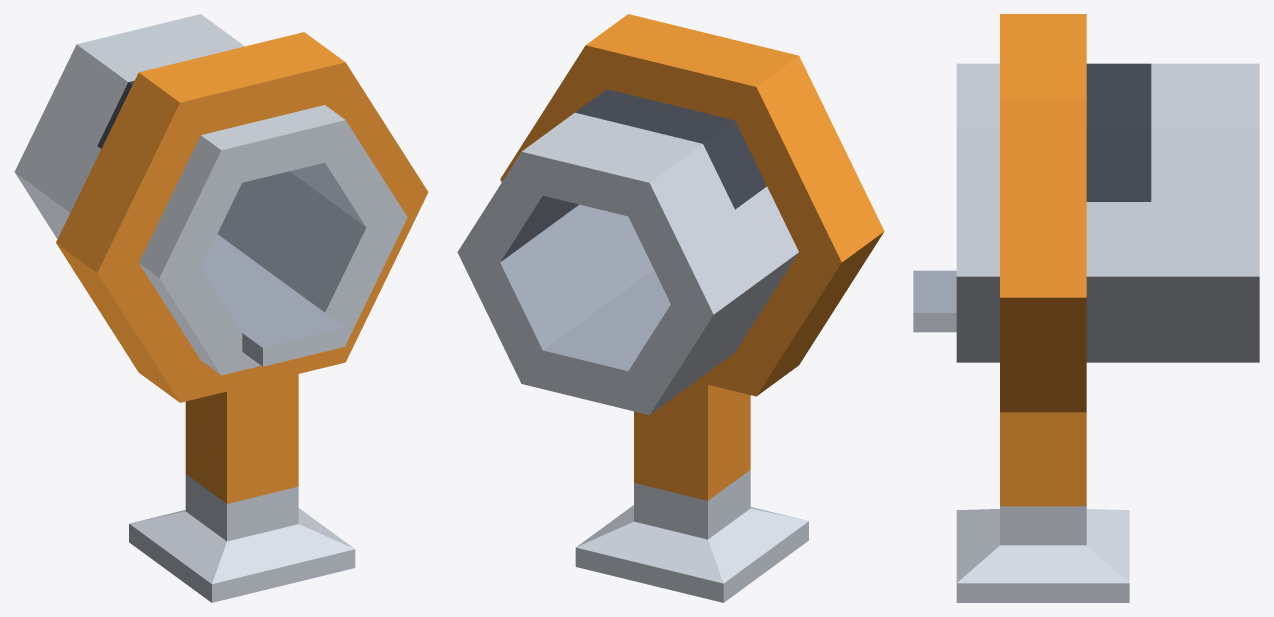
File: pipe_ringHighEnd.fbx
3 views of the same model, side by side, from view 1: azimuth 30°, elevation 25°; view 2: azimuth 150°, elevation 25°; view 3: azimuth 270°, elevation 25° (orthographic). The views are drawn at different scales.
Visible parts, largest first — view 1: pipe_ringHighEnd; view 2: pipe_ringHighEnd; view 3: pipe_ringHighEnd.
Boxes of the visible parts, x1,y1,x2,y2 form: pipe_ringHighEnd: [14, 14, 428, 602]; pipe_ringHighEnd: [457, 14, 884, 602]; pipe_ringHighEnd: [913, 14, 1259, 602].
Size of the model in its own units: 9.24 by 13 by 8.
